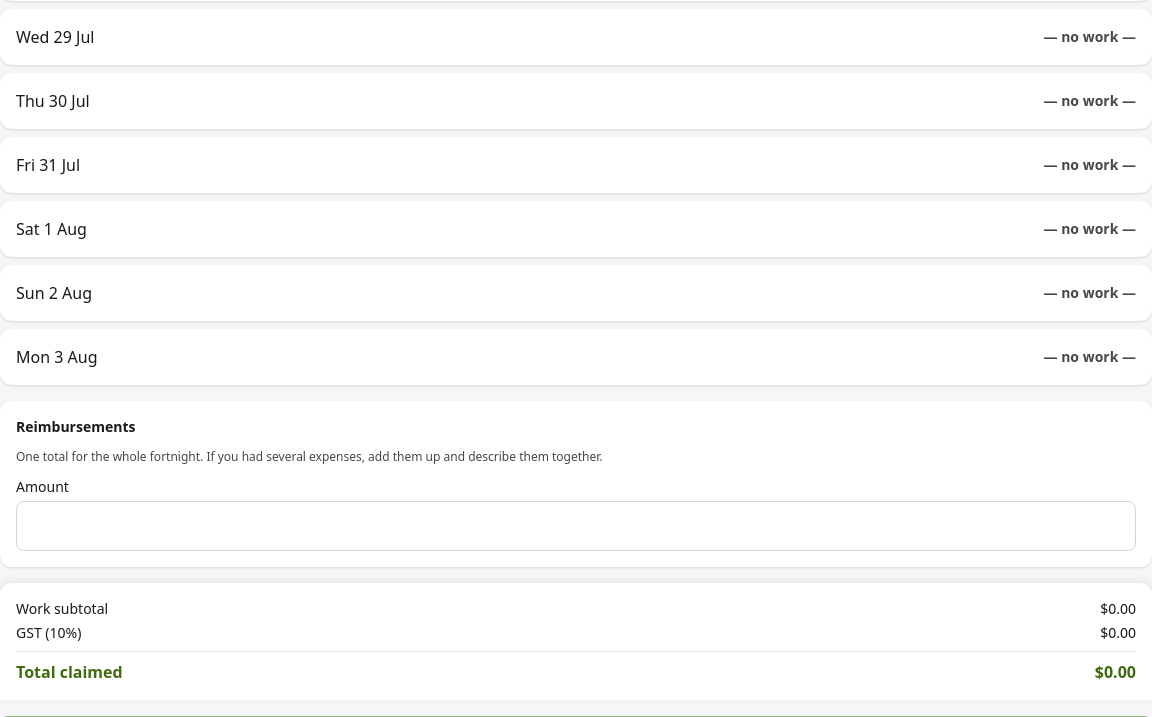
Test: FortnightlyForm incomplete adjusted-shift gating › shows an inline alert naming the date of an adjusted shift missing its hours
(page scrolled)
Click the text "Mon 3 Aug".
click(57, 357)  # box [16, 345, 98, 369]
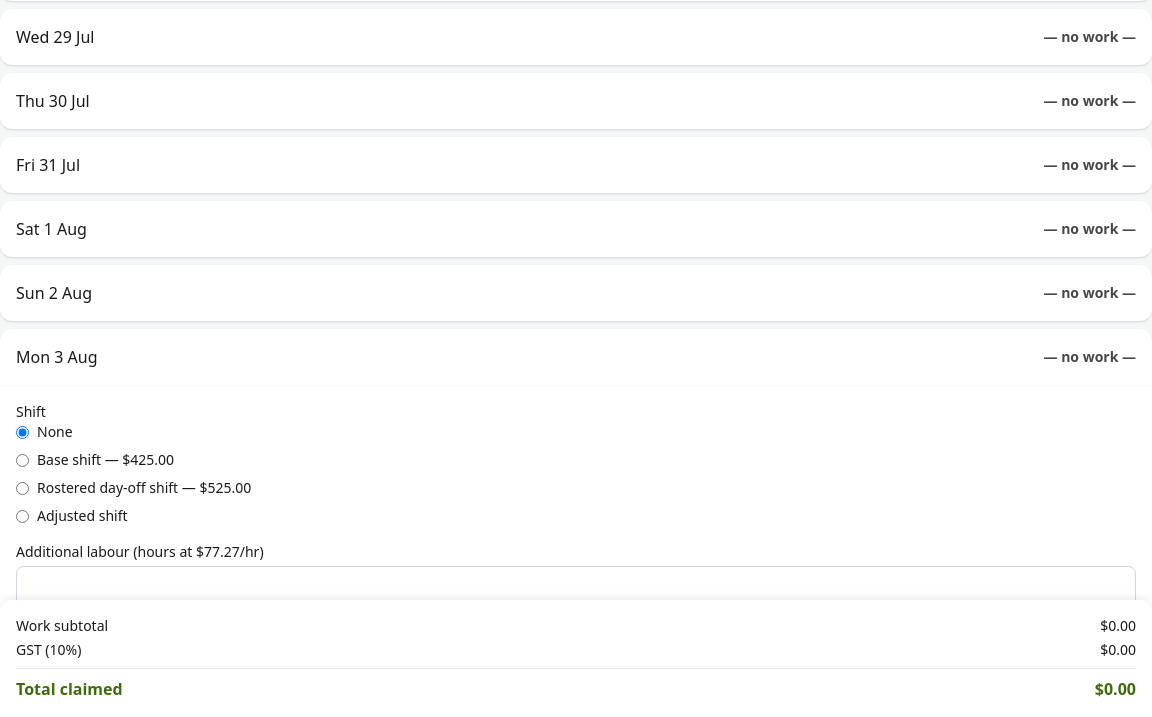
Click the radio button labelled "Adjusted shift".
click(22, 516)  # box [16, 510, 29, 522]
(page scrolled)
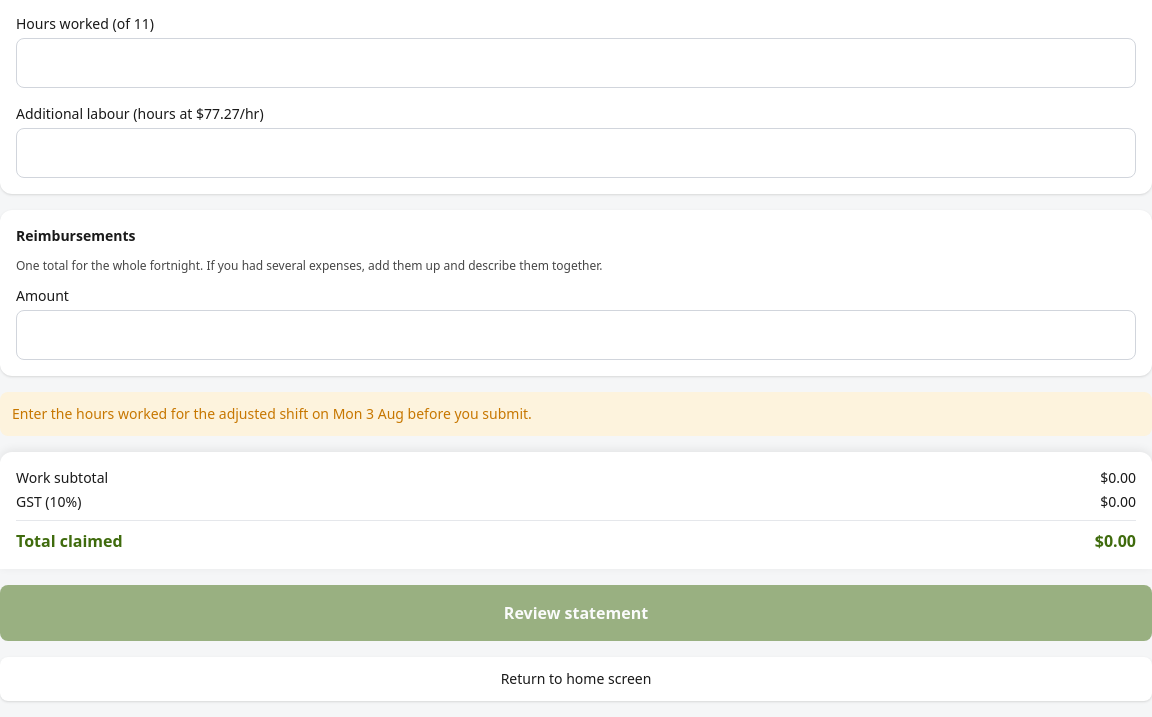
Expected: the message shows "Mon 3 Aug", [12, 404, 532, 423]
